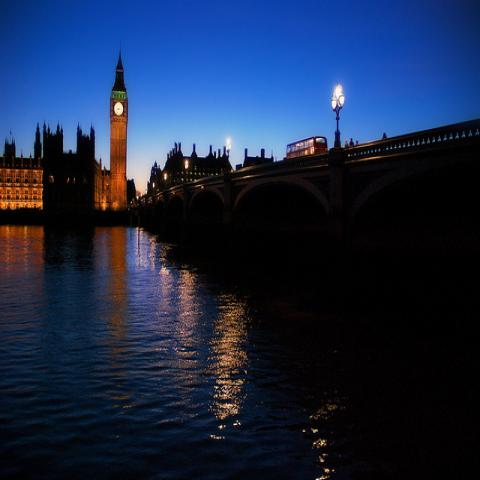bus: (286, 136, 327, 159)
